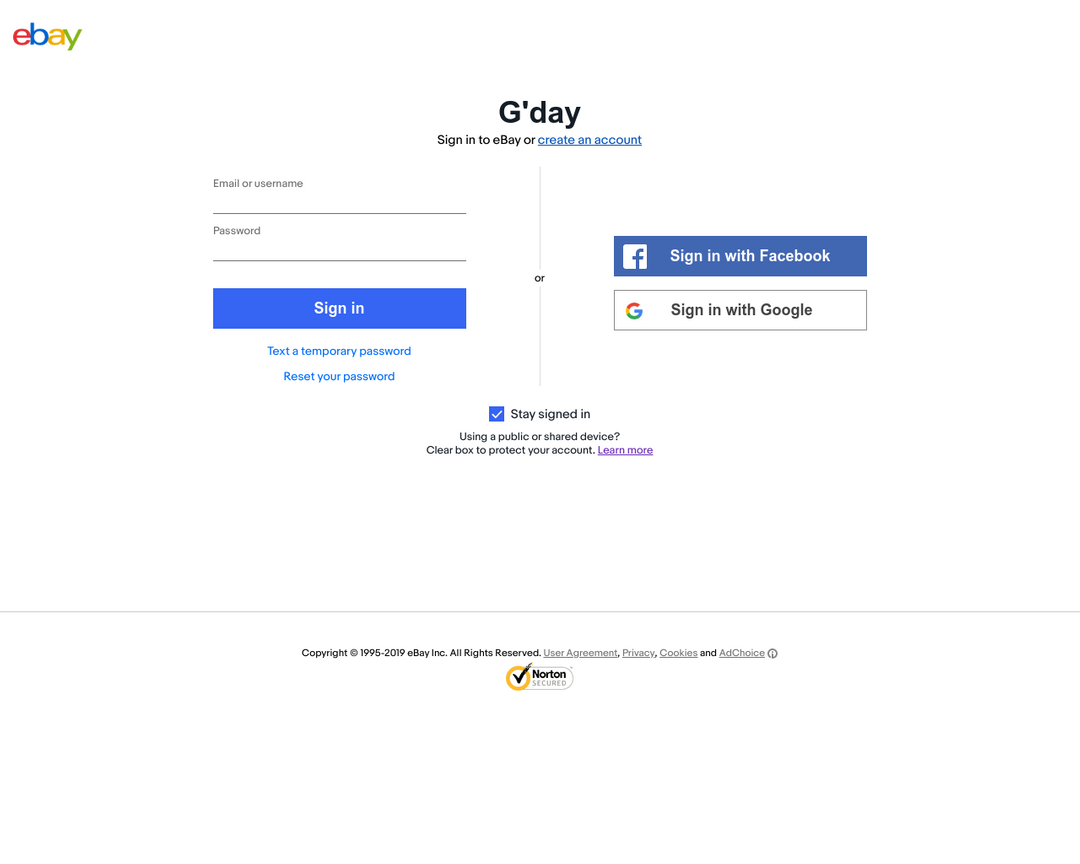Ebay: (12, 21, 84, 52)
Facebook: (620, 240, 649, 274)
Google: (620, 299, 648, 324)
